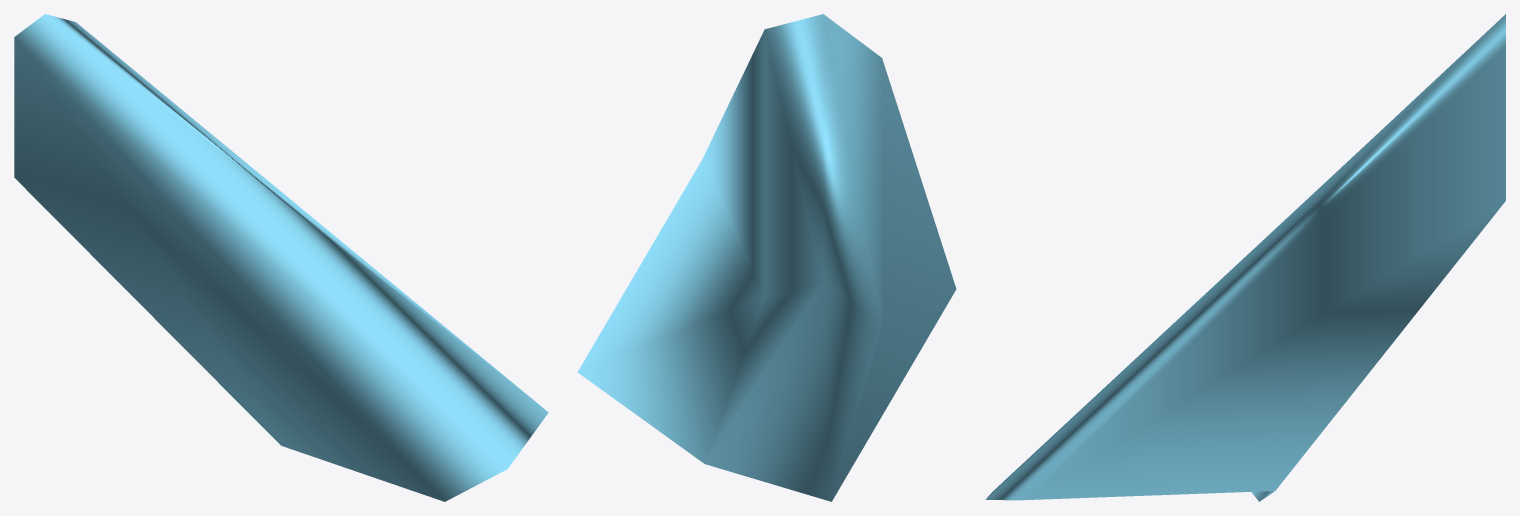
File: LUZVILLERA.fbx
3 renders of one model, left to right at view 1: azimuth 30°, elevation 25°; view 2: azimuth 150°, elevation 25°; view 3: azimuth 270°, elevation 25°, orthographic. The views are drawn at different scales.
Visible parts, largest first — view 1: Cube; view 2: Cube; view 3: Cube.
Boxes of the visible parts, x1,y1,x2,y2 form: Cube: (14, 14, 548, 501); Cube: (577, 14, 956, 501); Cube: (985, 14, 1505, 501).
Bounding box in the file's own units: 2826 × 3195 × 3710.
